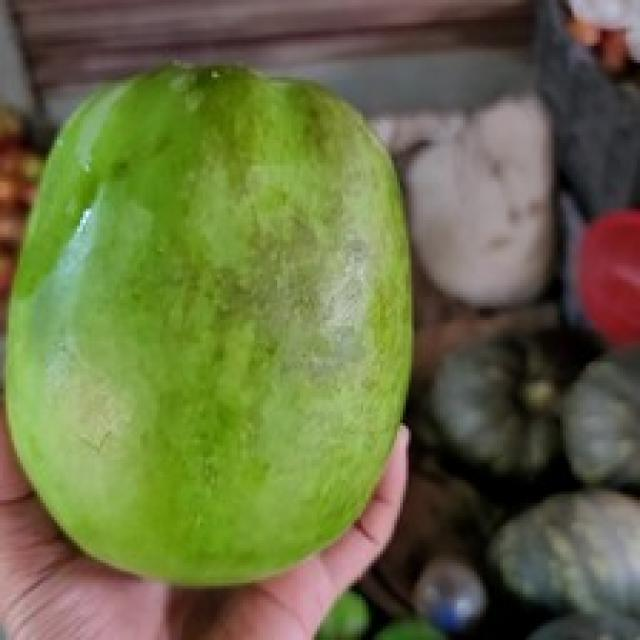Pepaya unrippen: (24, 50, 404, 593)
